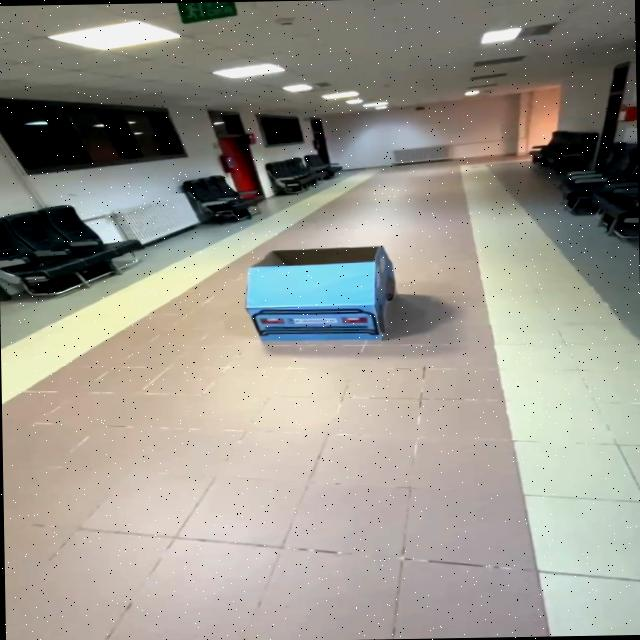blue_car: (227, 237, 436, 355)
